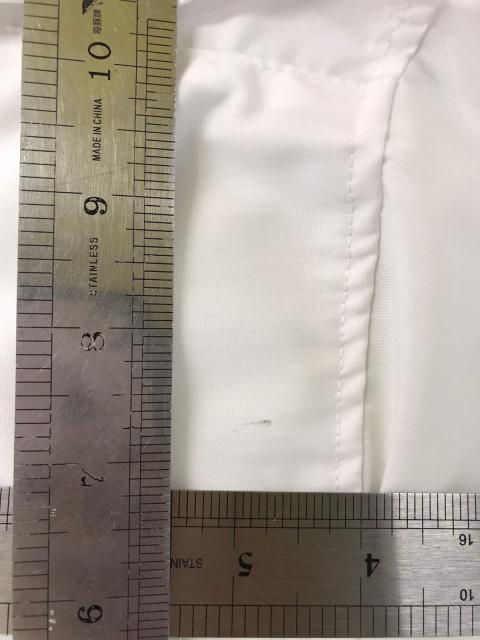Dirty_mark: (245, 414, 274, 432)
